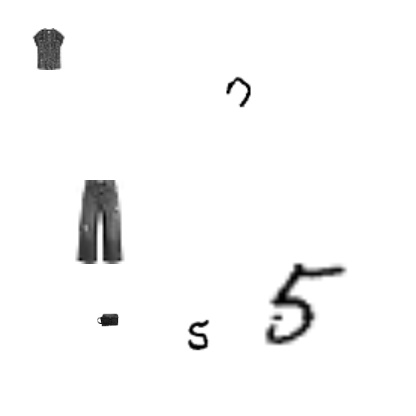5: (238, 244, 350, 356), (176, 314, 218, 356)
7: (219, 68, 261, 110)
Bag: (97, 309, 119, 331)
Shirt: (27, 28, 69, 70)
Trouser: (58, 180, 142, 264)
